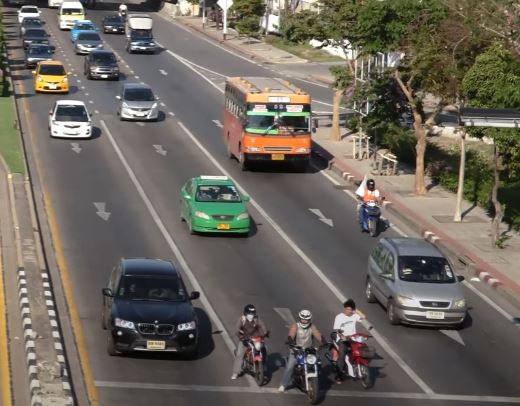Bus: (221, 75, 319, 171)
Car: (101, 256, 202, 359), (364, 235, 467, 328), (180, 174, 250, 236), (47, 98, 95, 141), (116, 82, 159, 120), (31, 58, 70, 94), (125, 13, 156, 54), (83, 49, 121, 80), (75, 31, 104, 55), (26, 43, 52, 67), (102, 14, 124, 35)
Motorcycle: (279, 308, 330, 403), (325, 298, 374, 389), (231, 304, 272, 387), (355, 178, 385, 238)
